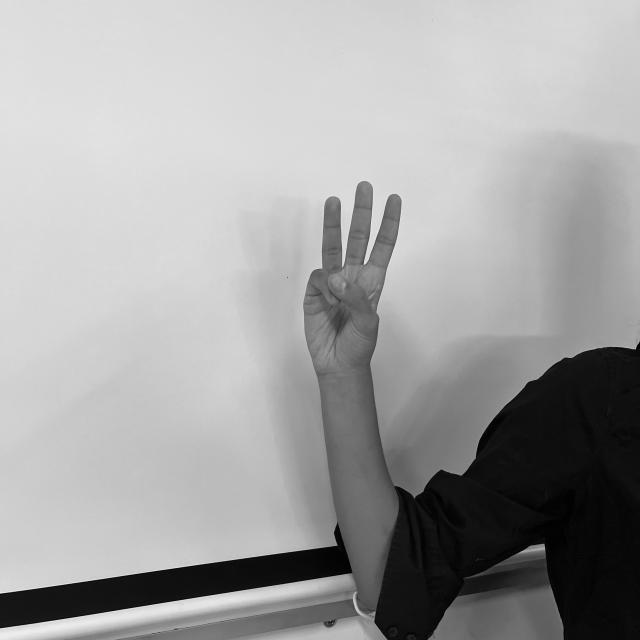Letra W: (297, 176, 408, 378)
